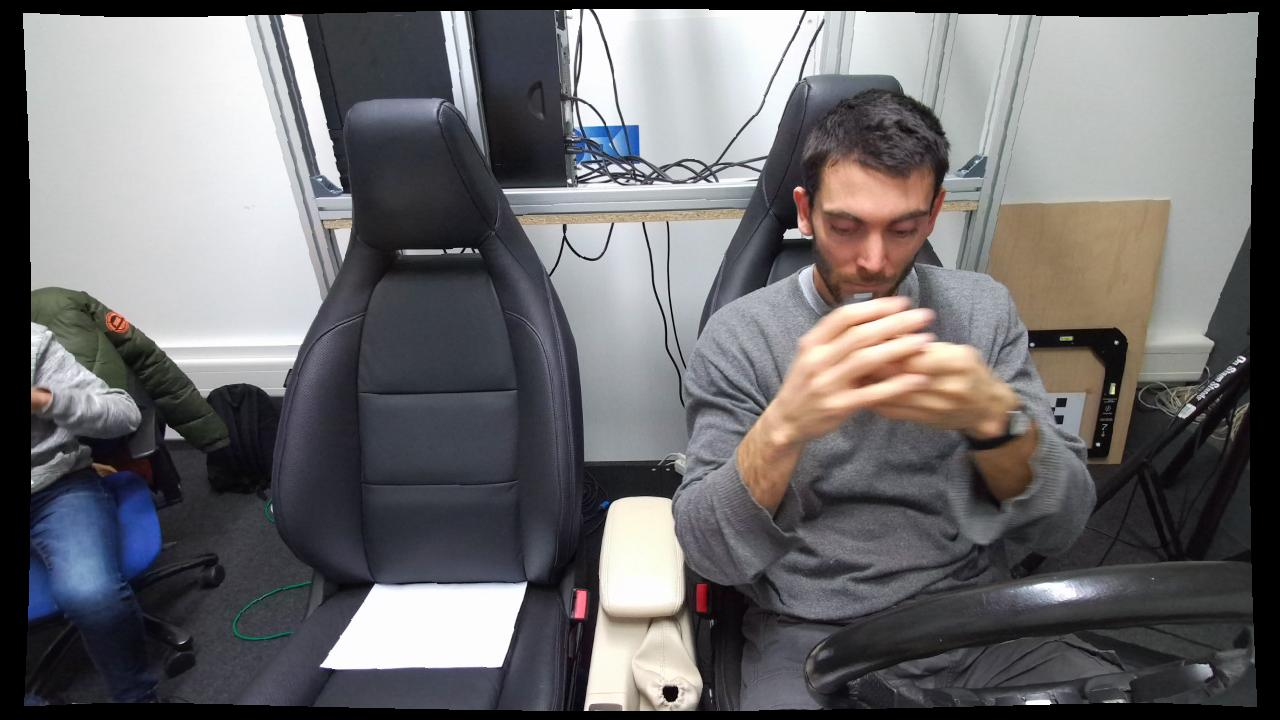Distracted: (678, 88, 1075, 710)
